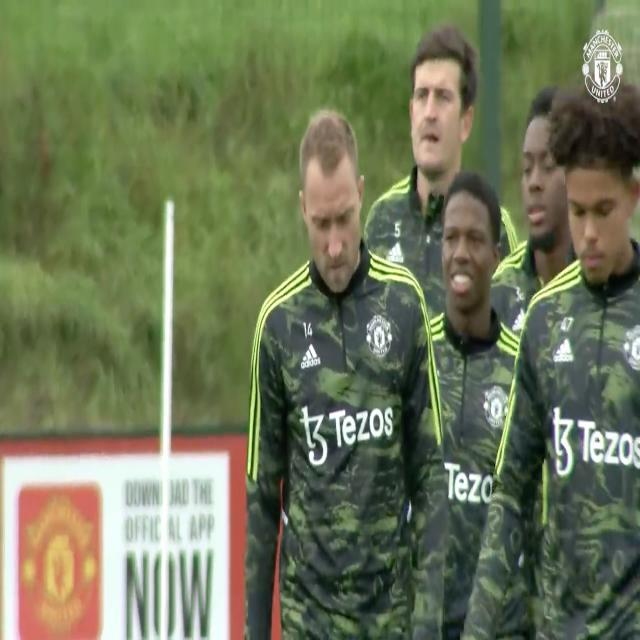Adidas: (299, 341, 320, 371), (554, 337, 575, 364), (385, 239, 404, 264), (512, 309, 530, 332)
